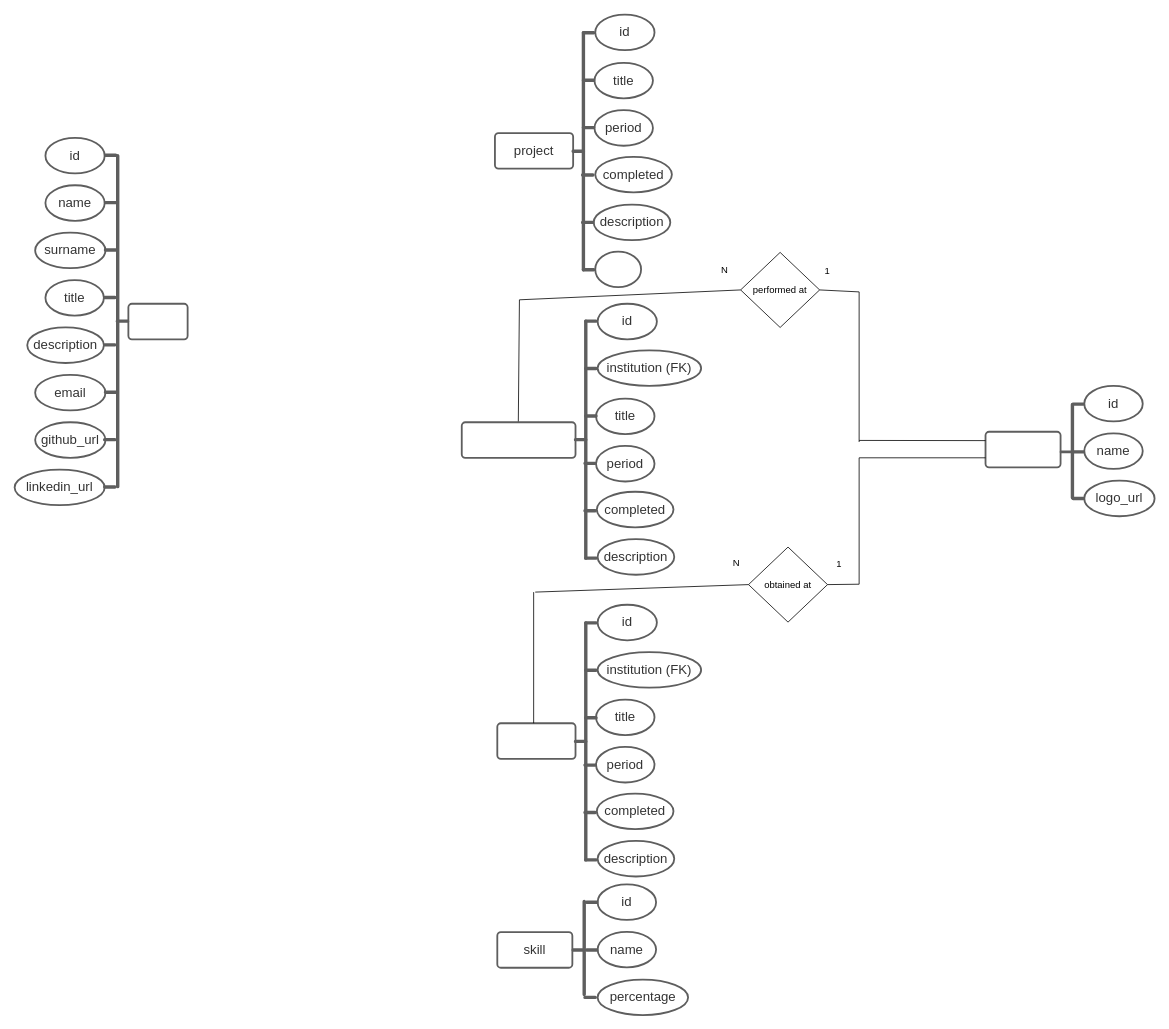
Image size: 1169x1029. Some labels were removed from this diagram. Each missing label, with the box of its shape:
education: (496, 722, 576, 759)
institution: (984, 430, 1061, 468)
person: (127, 302, 188, 340)
url: (594, 250, 642, 288)
work_experience: (460, 421, 576, 458)
